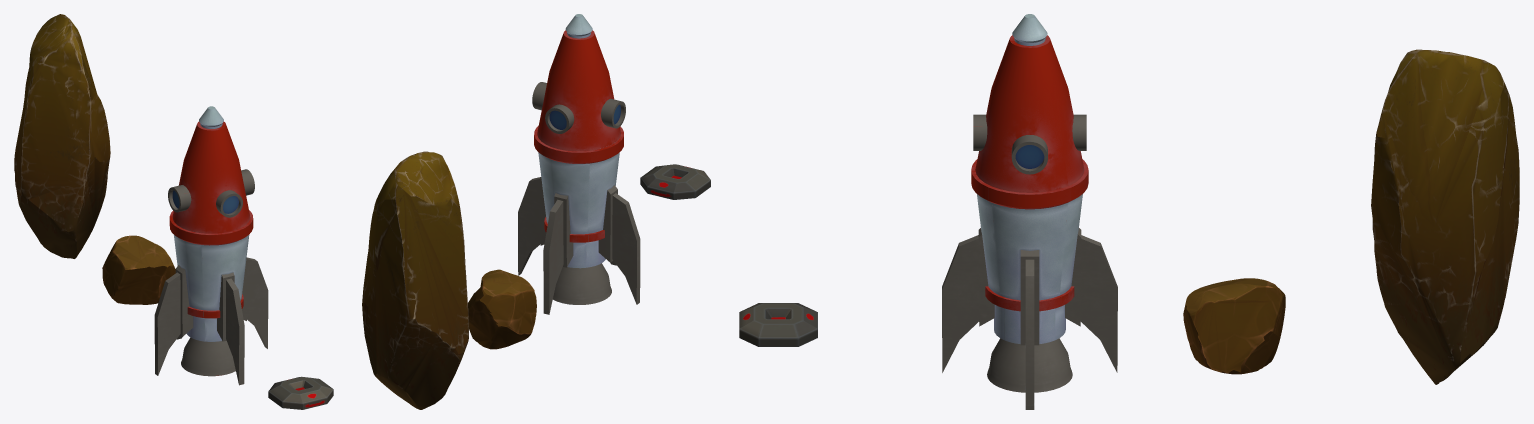
File: IslandAssets2.fbx
3 renders of one model, left to right at view 1: azimuth 30°, elevation 25°; view 2: azimuth 150°, elevation 25°; view 3: azimuth 270°, elevation 25°, orthographic. The views are drawn at different scales.
Visible parts, largest first — view 1: Rocket, Cube, Rock1, Hologram; view 2: Rocket, Cube, Rock1, Hologram; view 3: Rocket, Cube, Rock1, Hologram.
Boxes of the visible parts, x1,y1,x2,y2 form: Rocket: (154,106,268,385); Cube: (14,14,110,258); Rock1: (102,235,175,304); Hologram: (268,376,333,409); Rocket: (518,14,640,314); Cube: (362,151,468,409); Rock1: (468,269,536,349); Hologram: (640,164,710,199); Rocket: (942,14,1117,409); Cube: (1371,49,1519,384); Rock1: (1183,278,1285,374); Hologram: (739,303,817,346).
Size of the model in its own units: 515 by 1152 by 2242.
5 materials, 5 textured.
